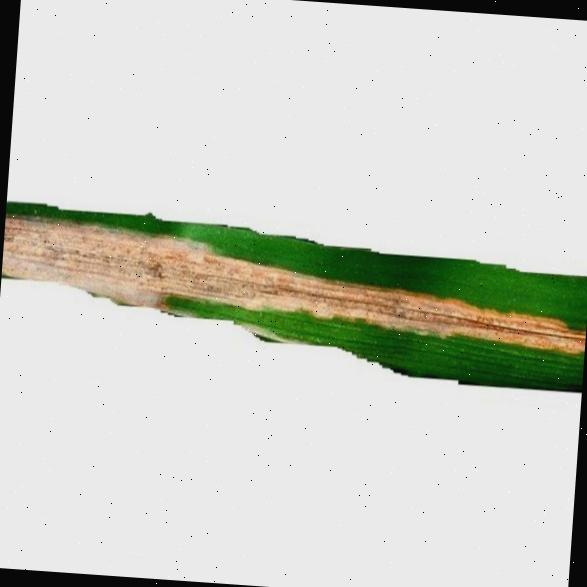Bacteria_Leaf_Blight: (0, 217, 587, 363)
